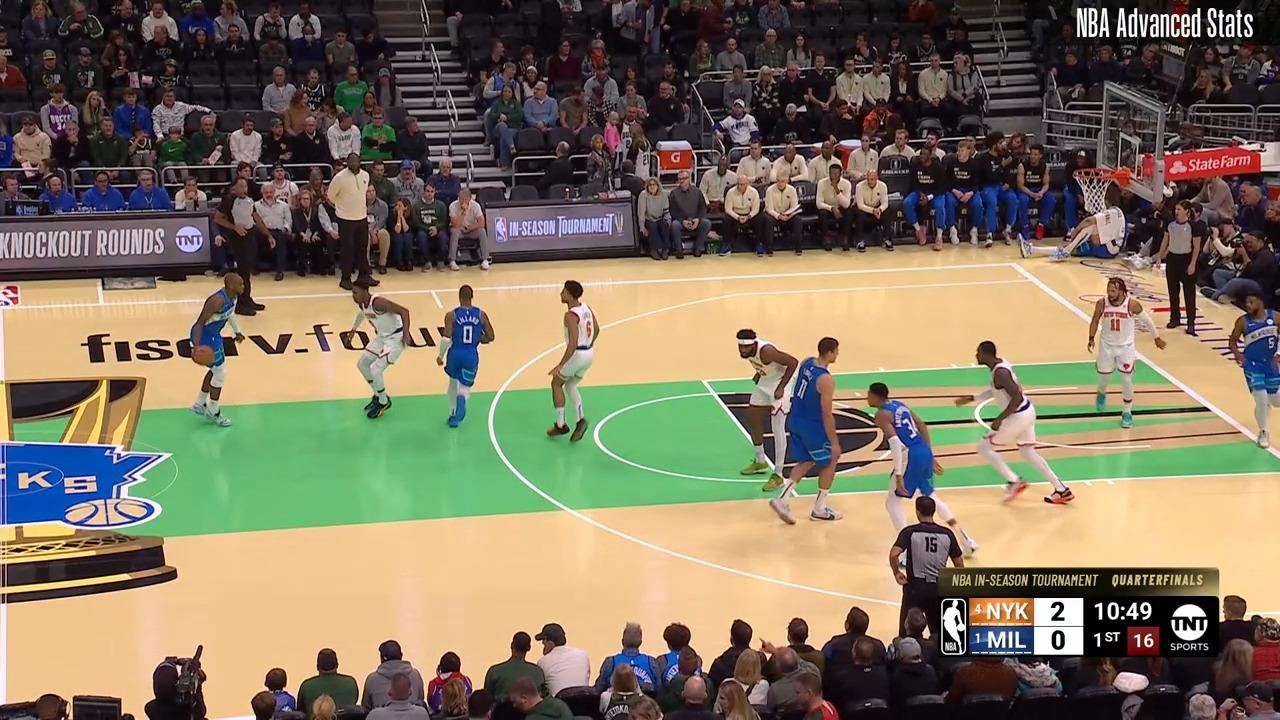Backboard: (1097, 89, 1159, 193)
Ball: (191, 346, 214, 366)
Basket: (1071, 166, 1125, 215)
Person: (872, 380, 978, 548), (973, 339, 1073, 512), (756, 334, 836, 525), (722, 328, 800, 483), (545, 283, 613, 450), (348, 272, 422, 422), (1081, 268, 1147, 430), (432, 284, 498, 439), (180, 271, 244, 429), (1221, 286, 1280, 455)
Referee: (893, 499, 960, 649), (216, 171, 269, 316), (1154, 199, 1200, 336)
